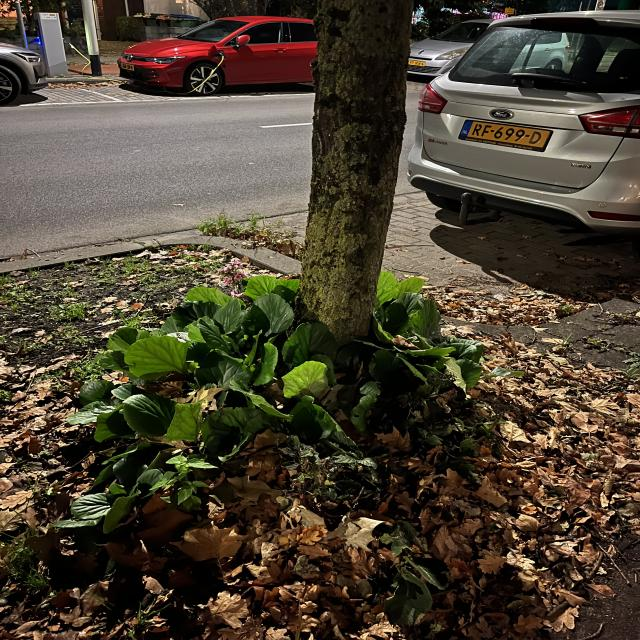leaves: (0, 289, 639, 639)
pavement: (0, 86, 315, 254), (381, 180, 639, 286)
plants: (65, 271, 486, 530)
weed: (196, 214, 293, 253), (603, 326, 609, 331)
